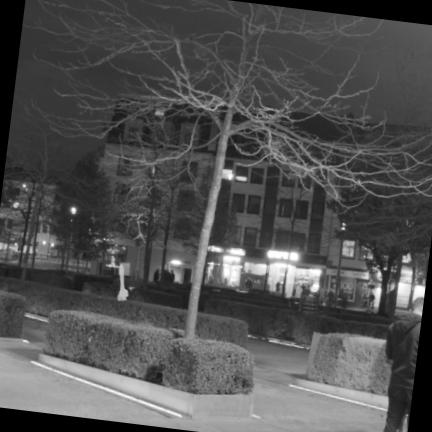Shahed: (117, 265, 128, 300)
